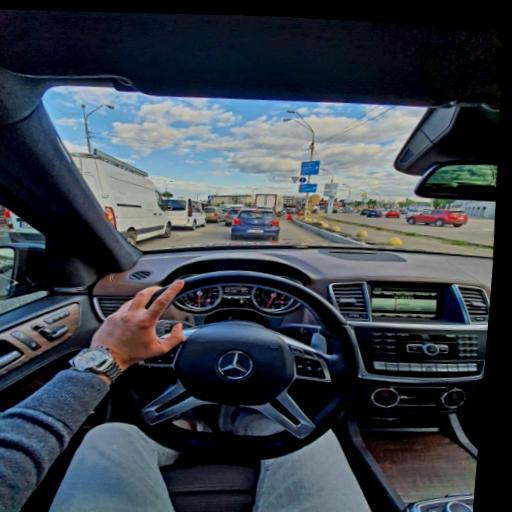Hands-on-the-Wheel: (49, 267, 221, 392)
